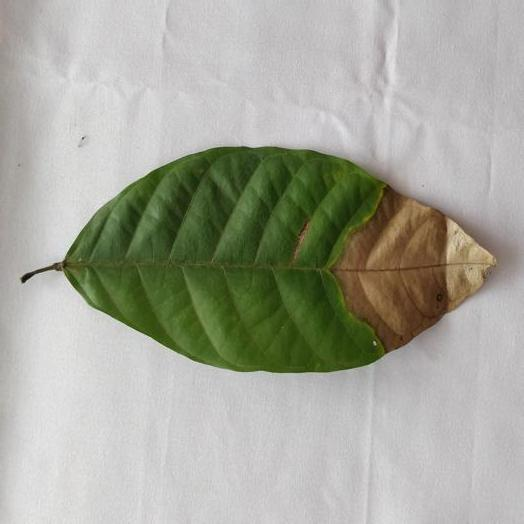Potassium: (25, 147, 494, 372)
